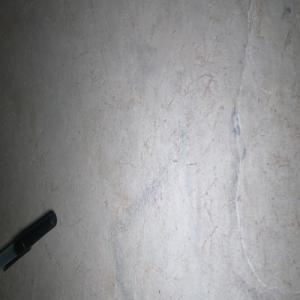Pen: (0, 210, 56, 271)
